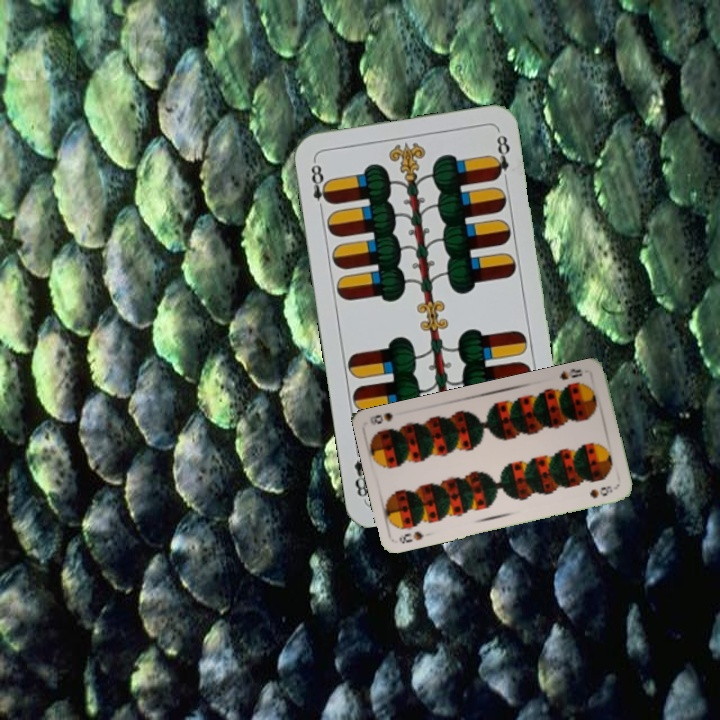E8: (307, 156, 334, 215)
S8: (395, 527, 426, 546), (555, 364, 585, 383)
